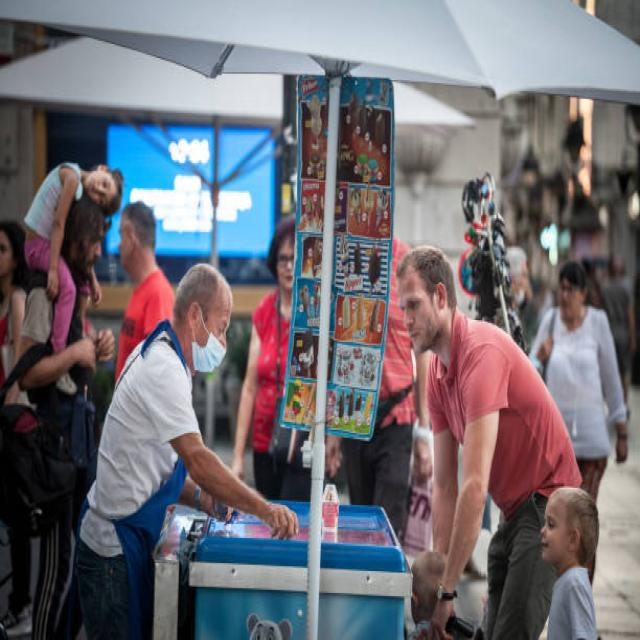Emperan: (125, 34, 487, 640)
